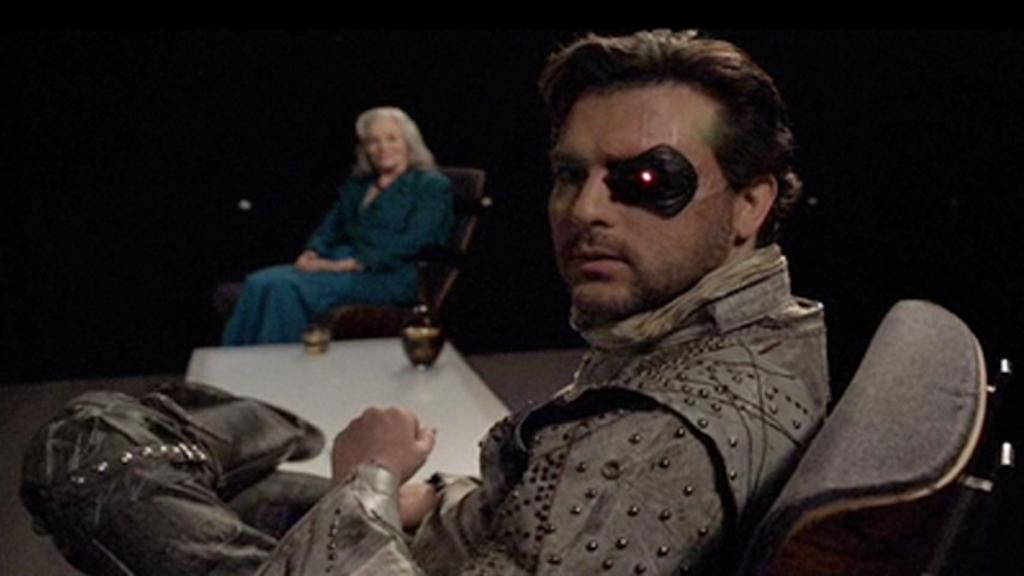face: (546, 96, 733, 314), (366, 121, 406, 168)
